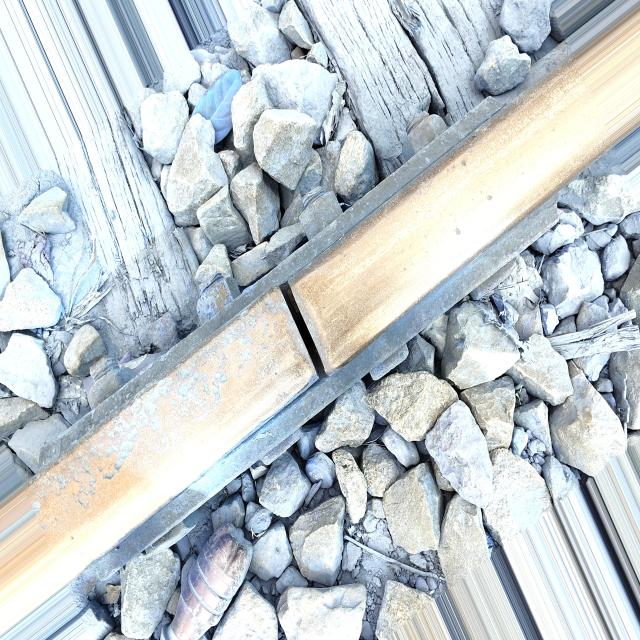crack: (266, 254, 334, 408)
